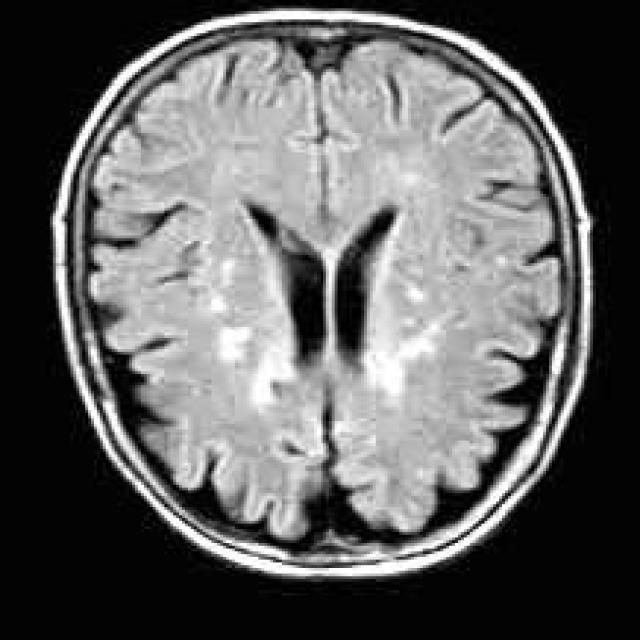notumor: (50, 11, 602, 587)
